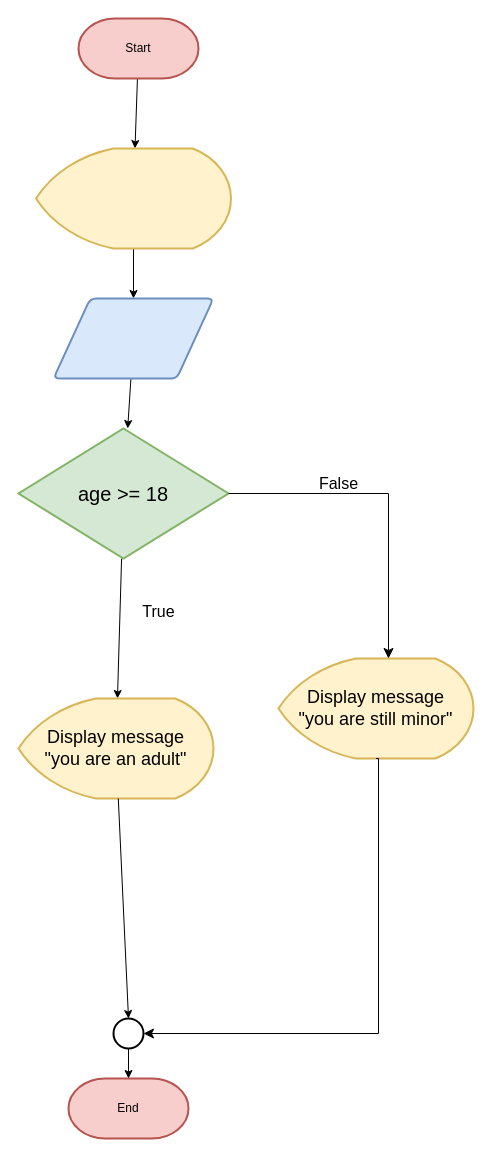
Some shapes in this 491 by 1156 pixel diagram are drawn without their labels. The shapes that lost their labels are listed below. From the top down, each one's centre as x and y in pixels, then its label:
pixel 133 198: Display message "Input your age"
pixel 133 338: Input age
